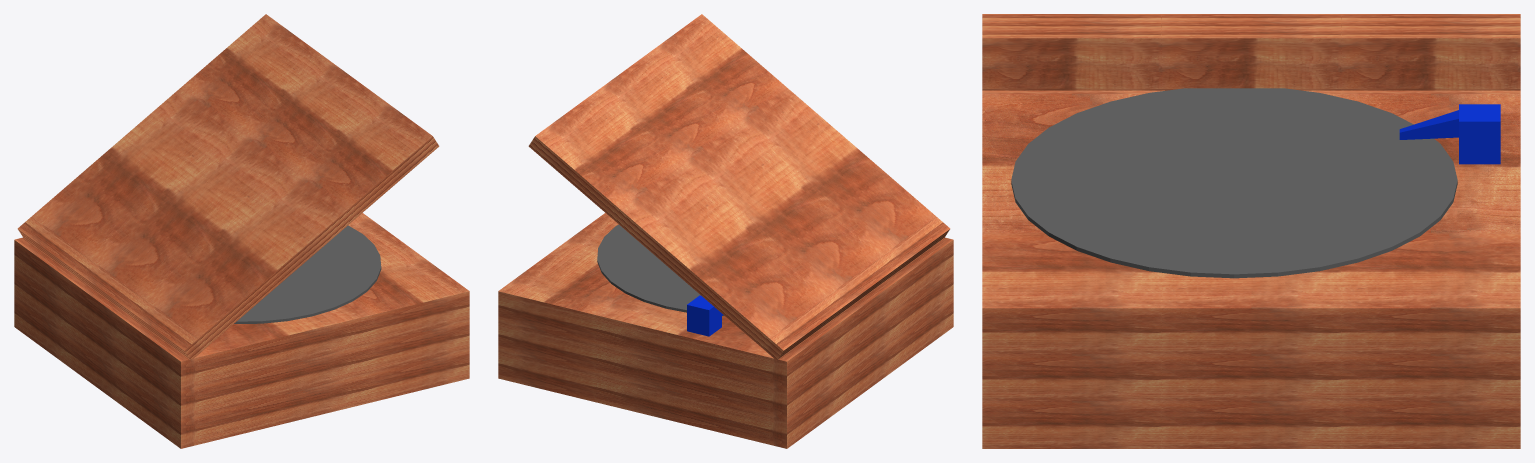
The model's file is vinyl_player.fbx.
3 views of the same model, side by side, from view 1: azimuth 30°, elevation 25°; view 2: azimuth 150°, elevation 25°; view 3: azimuth 270°, elevation 25° (orthographic). The views are drawn at different scales.
Visible parts, largest first — view 1: Vinyl Lid, PlayerBox, Vinyl; view 2: Vinyl Lid, PlayerBox, Vinyl, Player Device; view 3: PlayerBox, Vinyl, Vinyl Lid, Player Device.
Boxes of the visible parts, left/top/right/bottom form: Vinyl Lid: left=17, top=14, right=439, bottom=359; PlayerBox: left=14, top=213, right=469, bottom=448; Vinyl: left=234, top=225, right=381, bottom=323; Vinyl Lid: left=528, top=14, right=950, bottom=360; PlayerBox: left=498, top=213, right=953, bottom=448; Vinyl: left=597, top=224, right=724, bottom=315; Player Device: left=687, top=295, right=723, bottom=336; PlayerBox: left=982, top=90, right=1520, bottom=448; Vinyl: left=1011, top=88, right=1457, bottom=278; Vinyl Lid: left=982, top=14, right=1520, bottom=90; Player Device: left=1399, top=104, right=1500, bottom=164.
Bounding box in the file's own units: 200 × 166 × 200.
